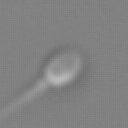normal: (1, 77, 49, 118)
